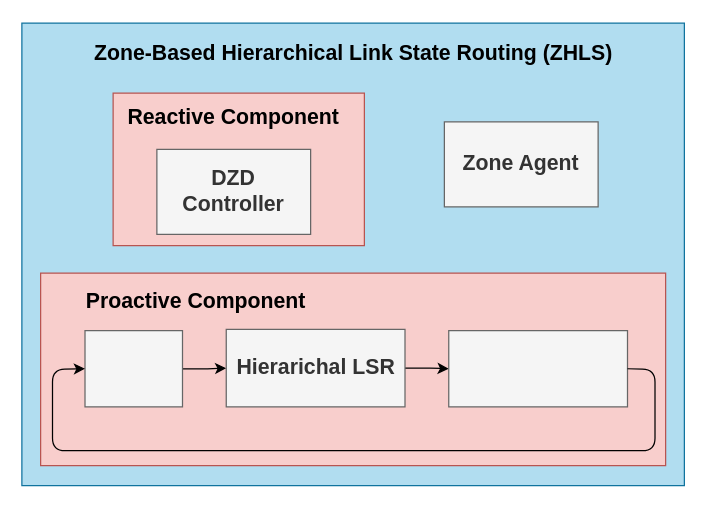
Some shapes in this 706 by 508 pixel diagram are drawn without their labels. Here are the shapes that lost their labels. From the top down, the centre of each, then its label:
At (x=133, y=368): "sARP".
At (x=538, y=368): "Update Topology & Forward Table".
